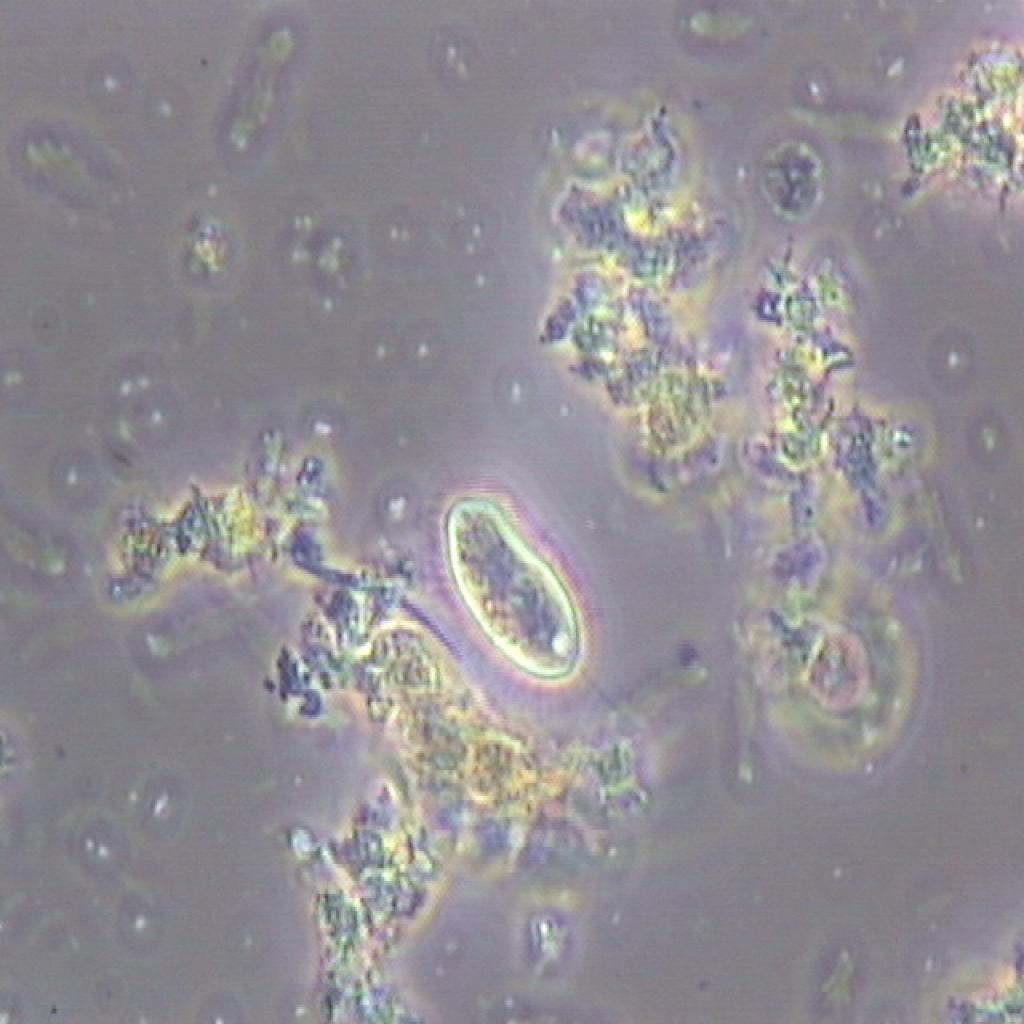Cyclidium: (418, 468, 658, 710)
